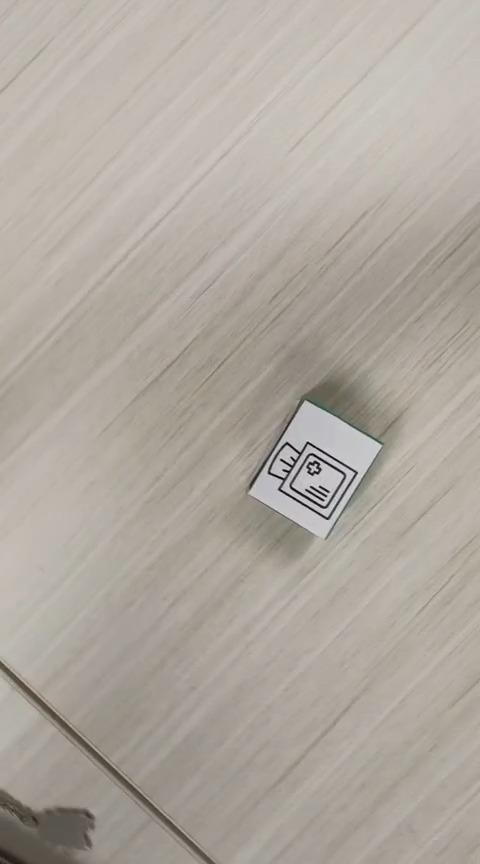Gauze: (245, 396, 384, 540)
